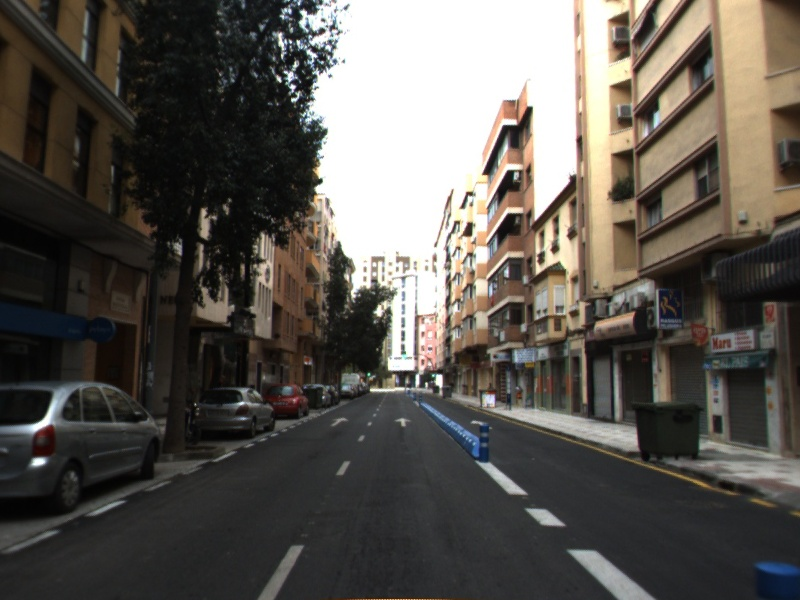STRAIGHT: (328, 415, 350, 428), (393, 416, 413, 428)
